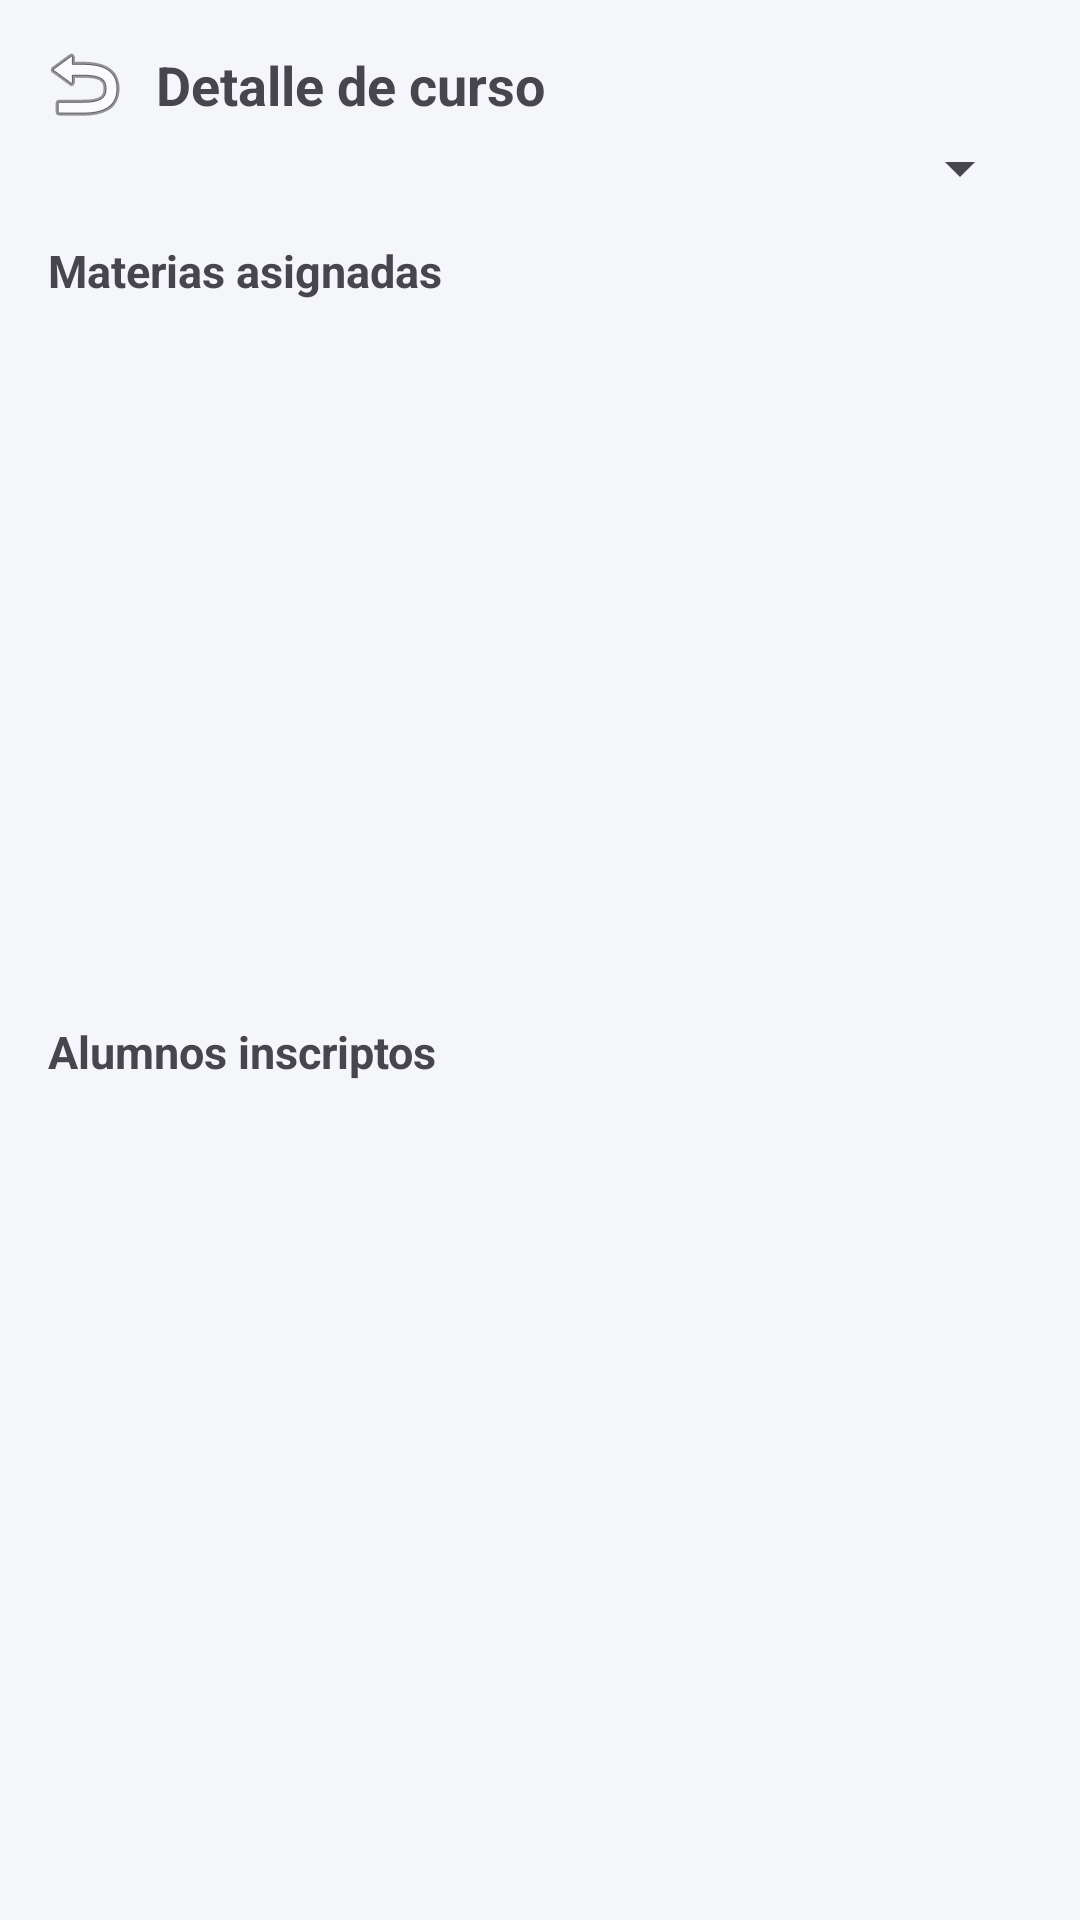

Where to tap for icons on this 1080px x 1920px app screen, as [x,y]:
revert: [85,84]
